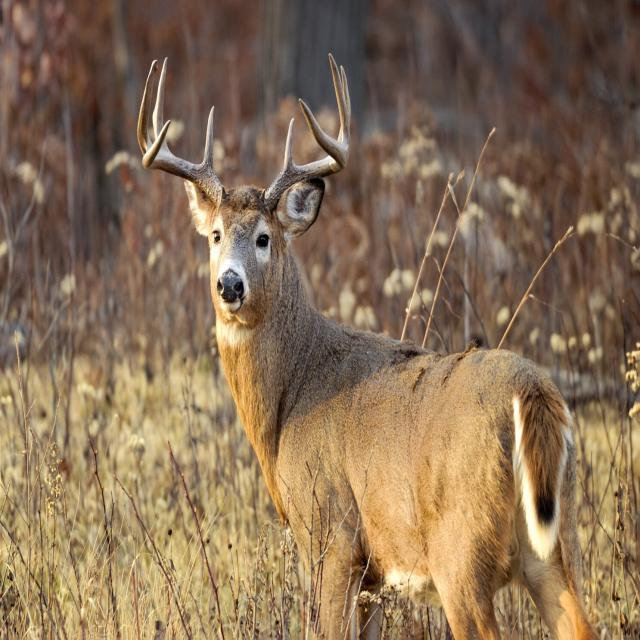L-F: (265, 98, 348, 208)
L-G1: (282, 117, 296, 169)
L-G3: (329, 53, 351, 153)
R-F: (142, 119, 224, 203)
R-G1: (202, 106, 215, 171)
R-G3: (137, 60, 158, 155)
